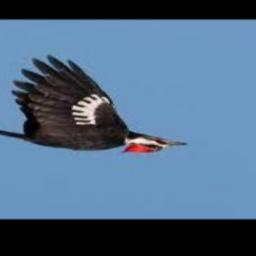Woodpecker: (0, 56, 184, 154)
